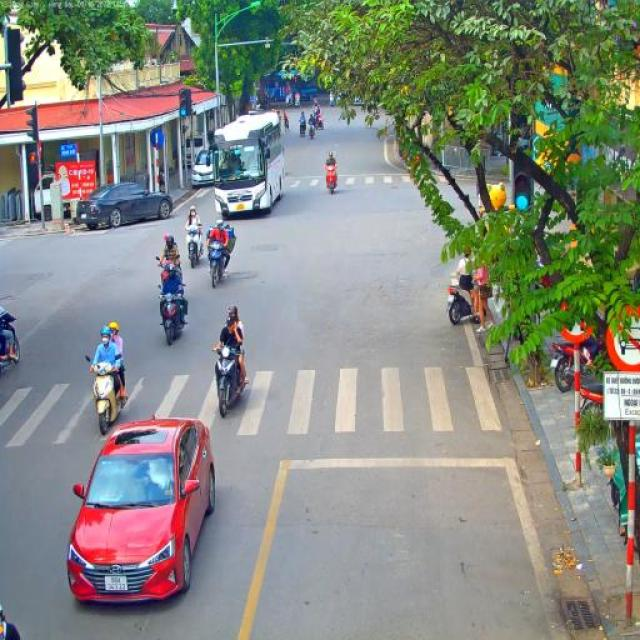bus: (205, 111, 285, 219), (262, 71, 318, 108)
car: (66, 413, 216, 608), (75, 182, 174, 229), (190, 148, 214, 188)
motorcycle: (86, 354, 128, 435), (548, 336, 600, 394), (212, 345, 244, 417), (157, 286, 188, 346), (205, 235, 237, 289), (445, 283, 480, 326), (156, 256, 186, 300), (0, 319, 21, 372), (578, 378, 603, 418), (185, 224, 205, 268), (323, 164, 338, 196), (298, 119, 307, 138), (308, 120, 316, 140), (316, 112, 324, 130), (284, 96, 291, 108), (294, 96, 300, 109)
